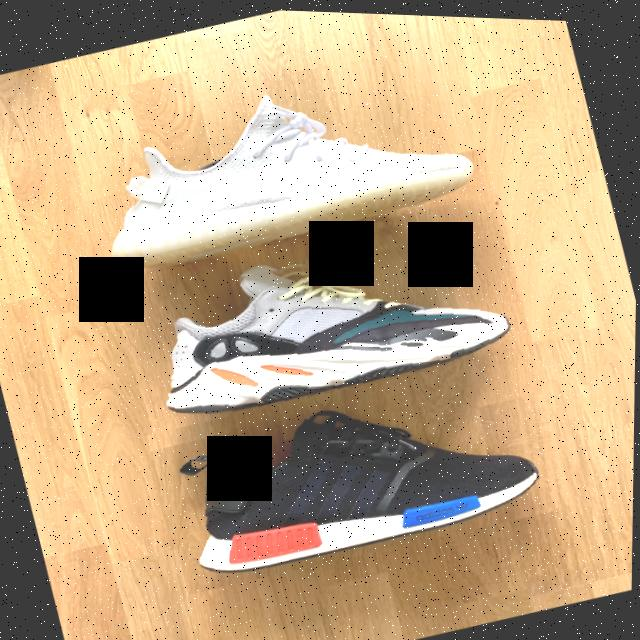shoe: (48, 28, 510, 299), (148, 333, 574, 604), (99, 199, 526, 448)
